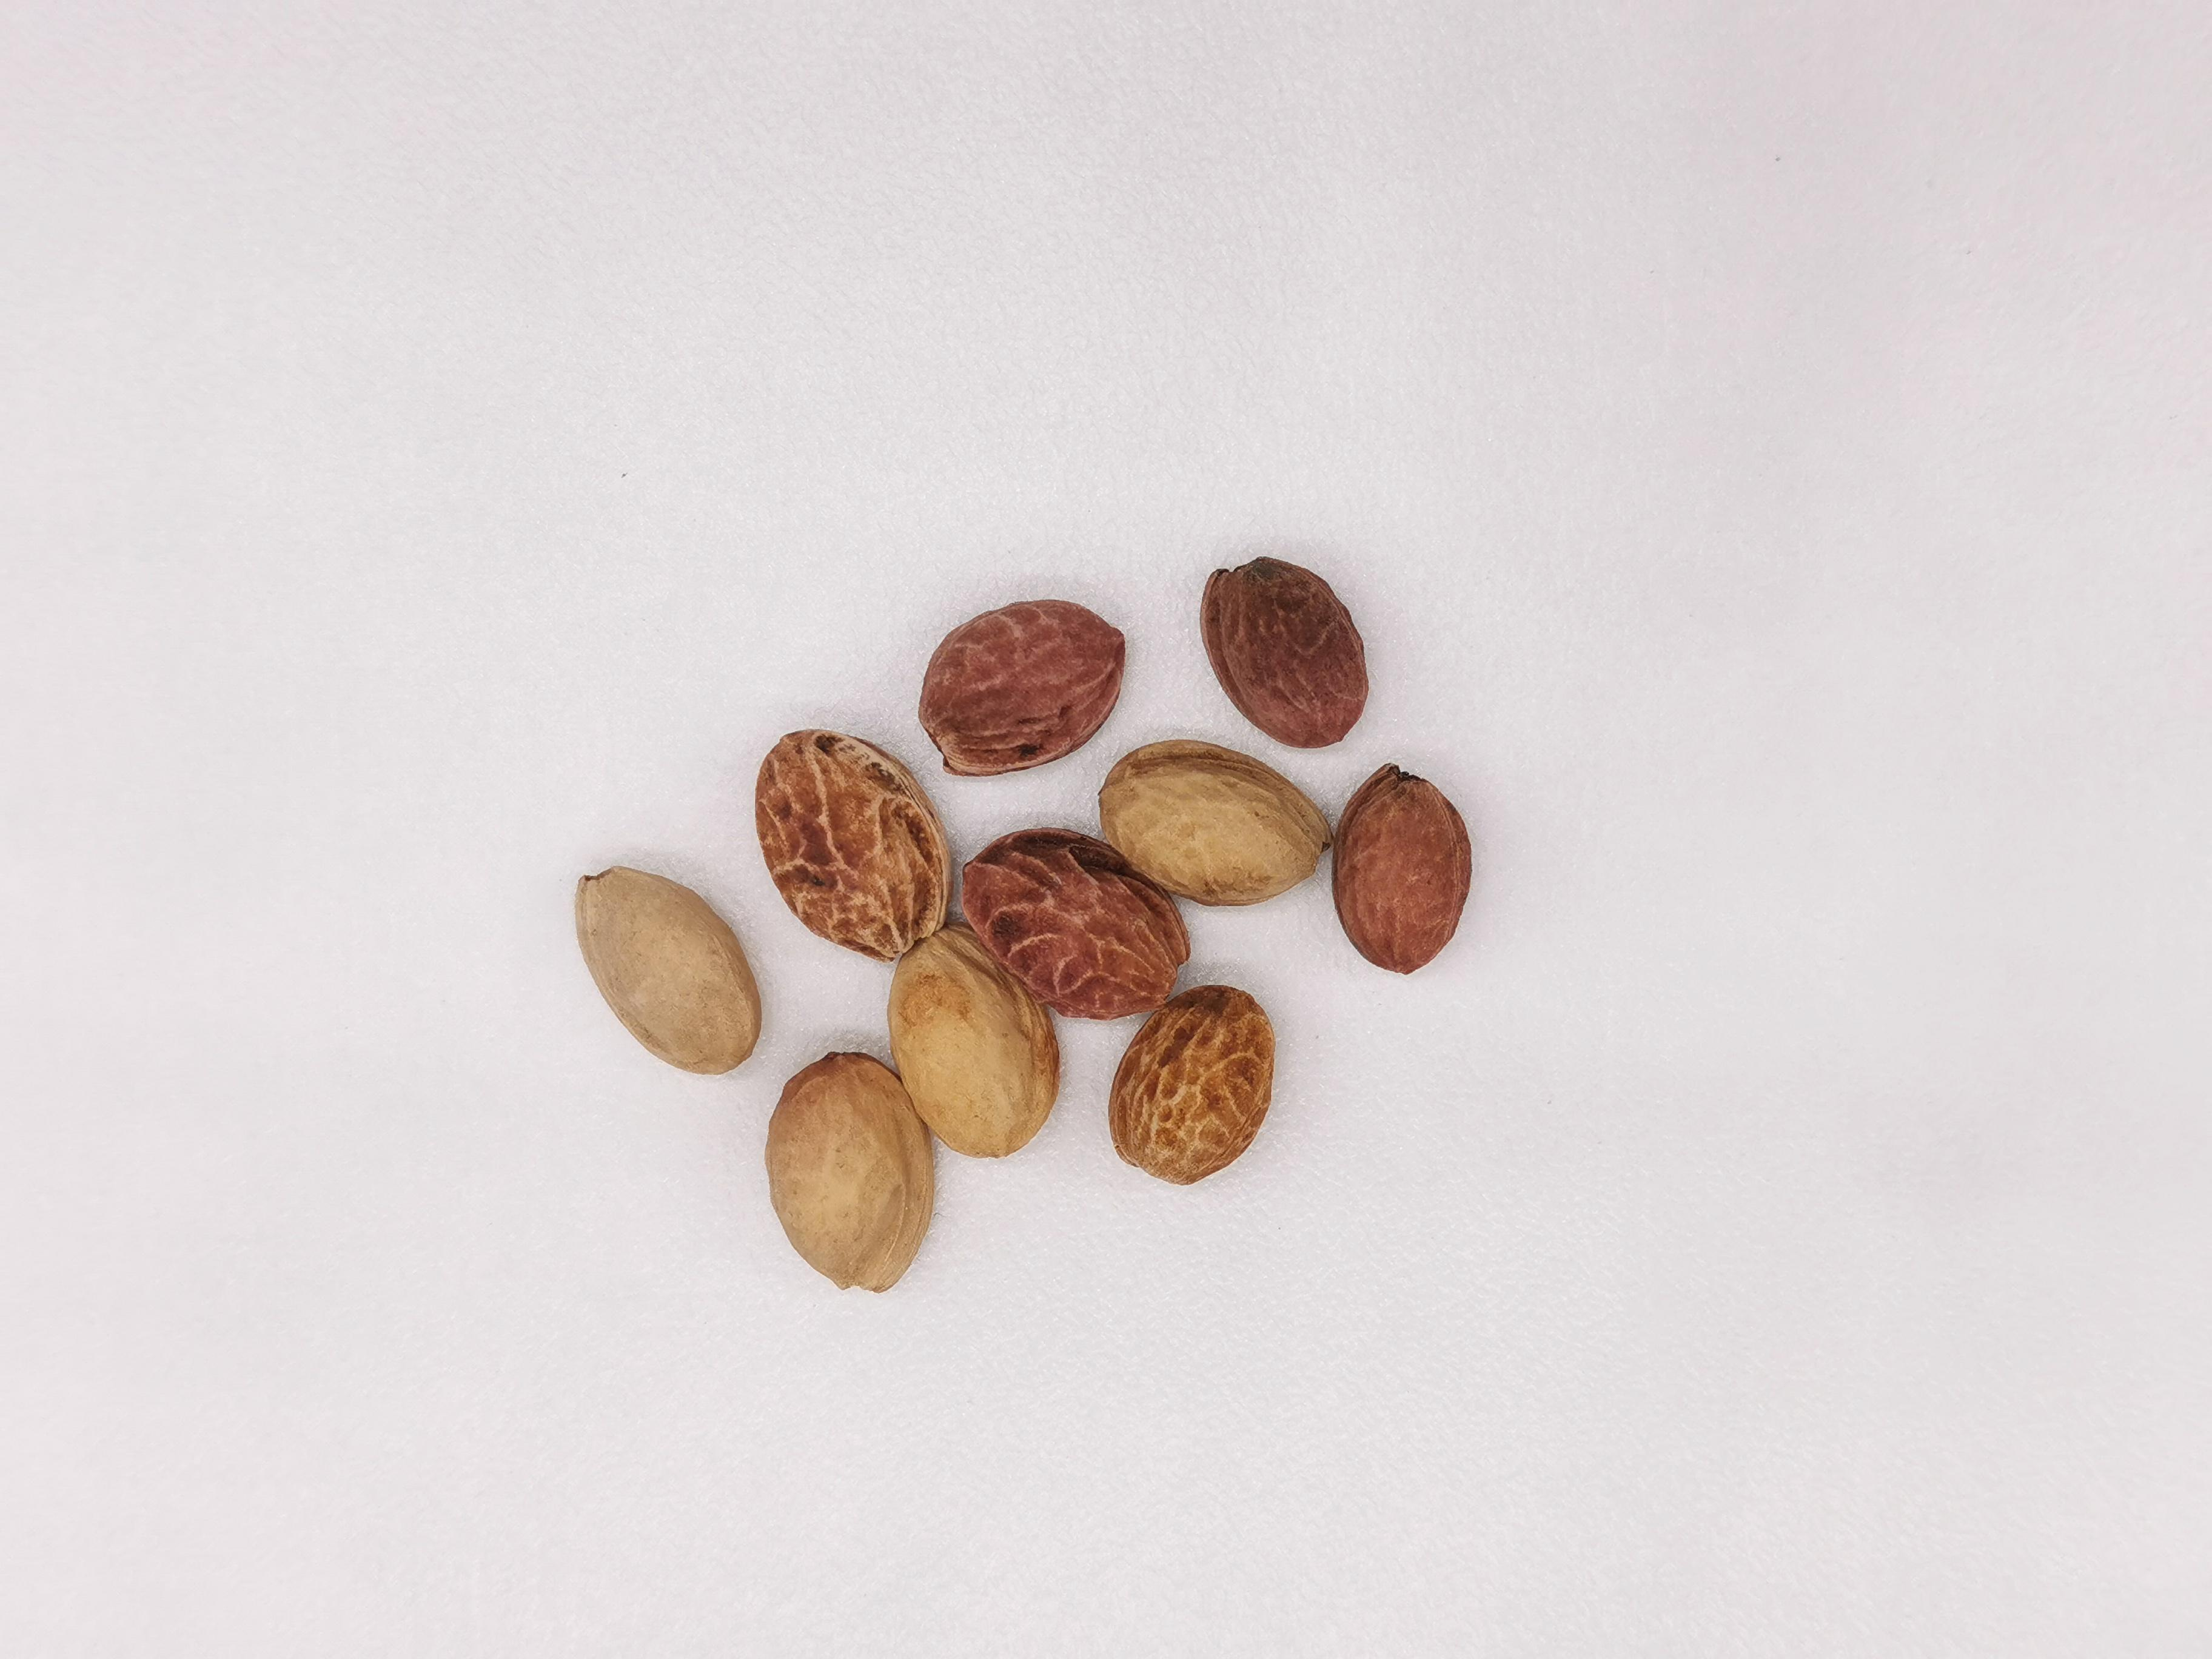seed: (752, 725, 951, 960), (960, 821, 1191, 1018), (890, 920, 1069, 1162), (759, 1053, 934, 1291), (1092, 735, 1332, 908), (573, 866, 763, 1073), (918, 594, 1127, 781), (1104, 983, 1275, 1188), (1195, 549, 1372, 746), (1336, 760, 1474, 976)
